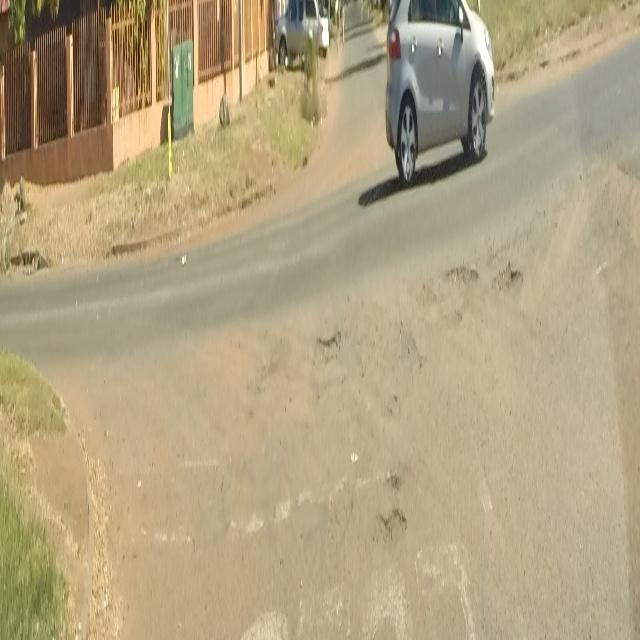pothole: (492, 260, 524, 308), (377, 502, 408, 547), (444, 261, 481, 297), (314, 329, 337, 356)
